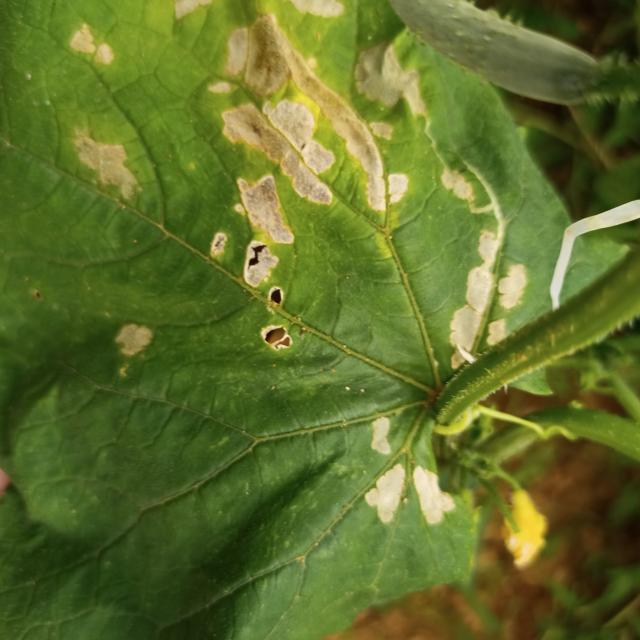disease_cucumber: (72, 0, 527, 369), (365, 413, 457, 529)
